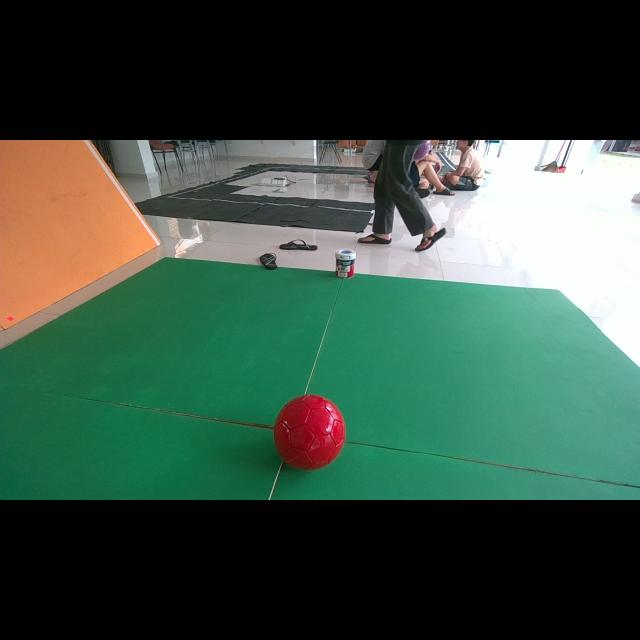P: (274, 394, 346, 470)
